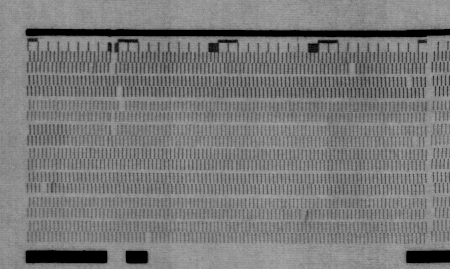Broken hole: (108, 53, 119, 76), (346, 63, 358, 78), (142, 232, 156, 244), (109, 125, 120, 139), (38, 182, 50, 194), (410, 136, 421, 149), (297, 208, 309, 219), (114, 87, 124, 99), (405, 75, 415, 87), (117, 97, 126, 110)
Oblique printing: (106, 110, 117, 124)
